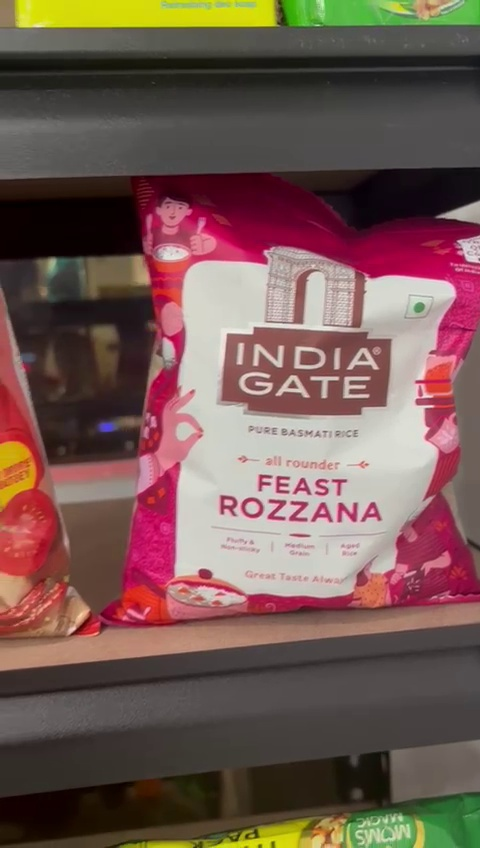India Gate Feast Rozzana: (138, 184, 480, 611)
